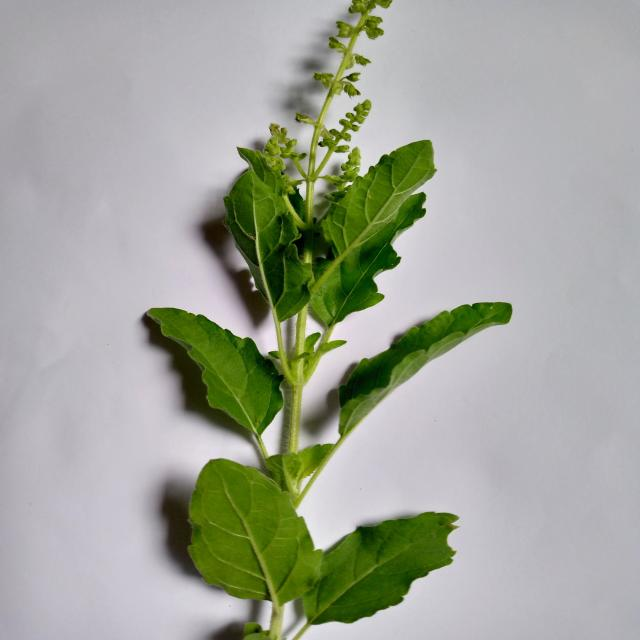tulsi: (145, 0, 500, 640)
